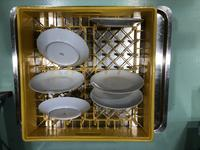Dish: (29, 69, 85, 94), (90, 69, 145, 94), (90, 88, 144, 109), (90, 17, 144, 27)
Inclined_dish: (37, 28, 90, 68), (38, 96, 91, 120)
